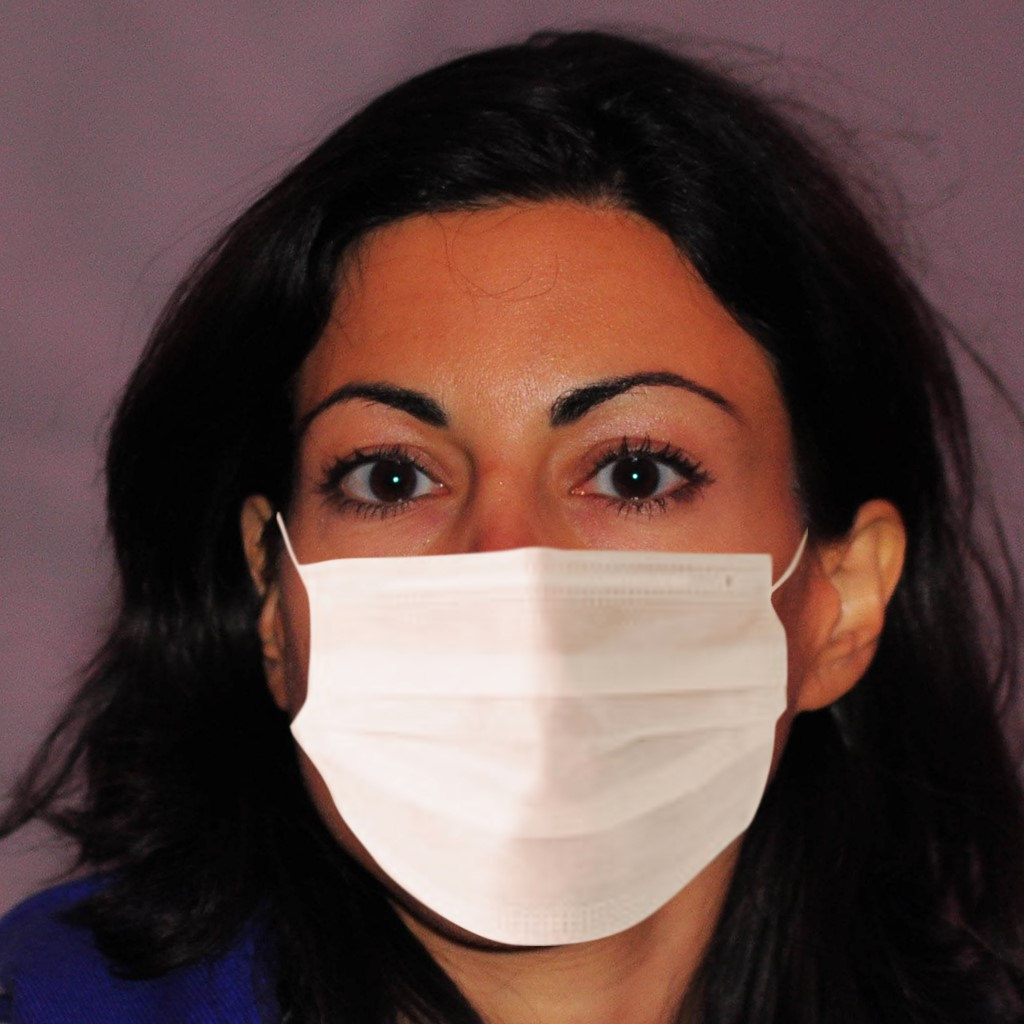con_mascara: (244, 227, 818, 946)
